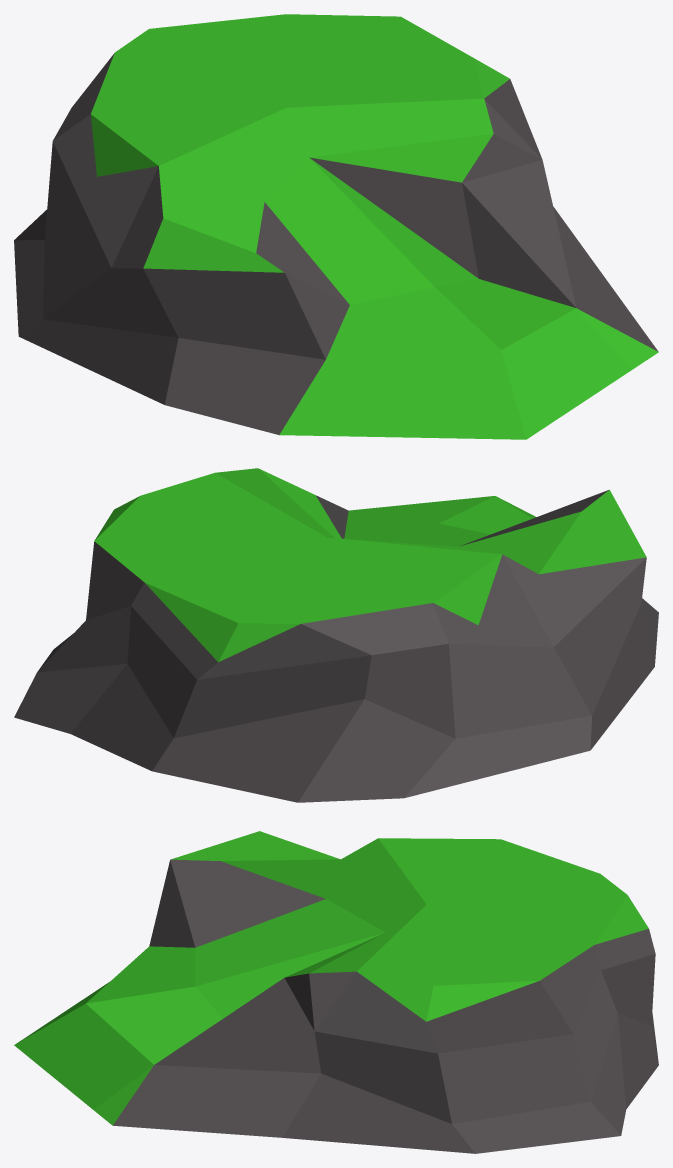
File: mountain_m3.fbx
3 renders of one model, top to bottom at view 1: azimuth 30°, elevation 25°; view 2: azimuth 150°, elevation 25°; view 3: azimuth 270°, elevation 25°, orthographic. The views are drawn at different scales.
Visible parts, largest first — view 1: Circle.015; view 2: Circle.015; view 3: Circle.015.
Part boxes in pixels (<box>): Circle.015: <box>14,14,658,439</box>; Circle.015: <box>14,468,658,802</box>; Circle.015: <box>14,831,658,1153</box>.
Bounding box in the file's own units: 1928 × 555 × 2327.
